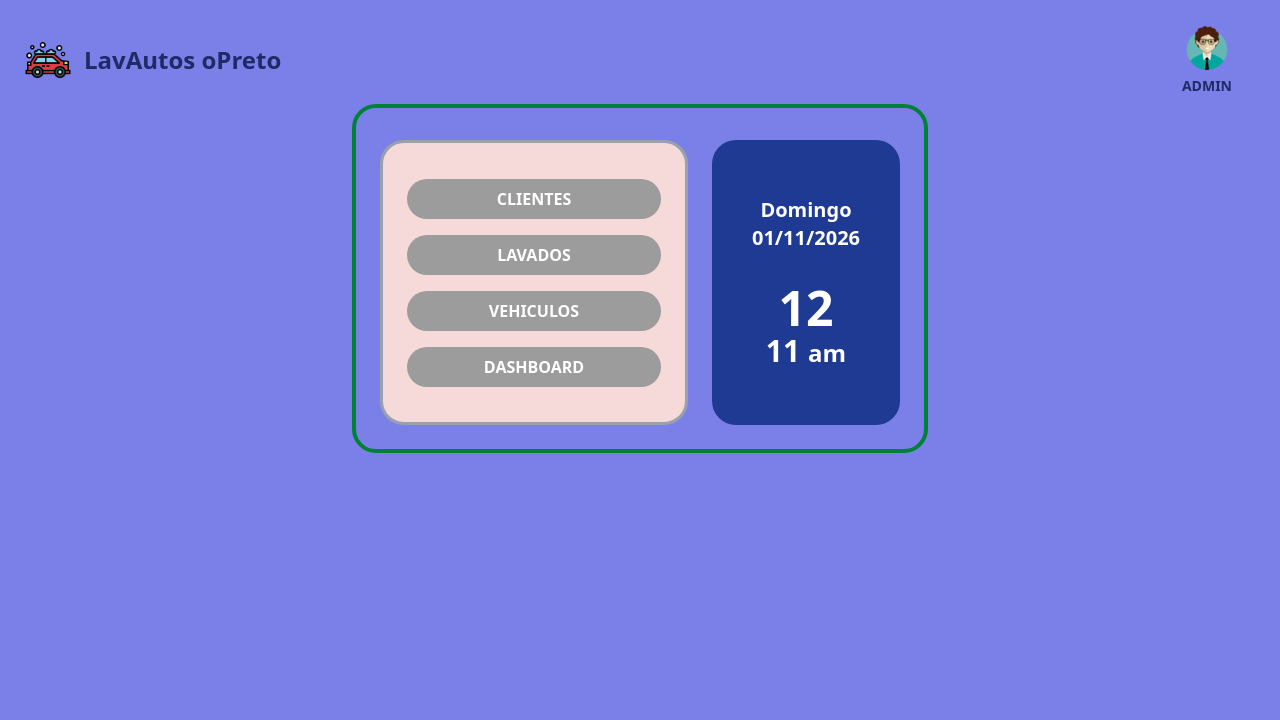
Scenario: HomePage › la X cierra el popup sin cerrar sesión
This screenshot has width=1280, height=720.
Expected: the button "CLIENTES" is shown, [407,179,661,219]
Click the button named "usuario": coordinates (1207, 60) [1182,24,1232,96]
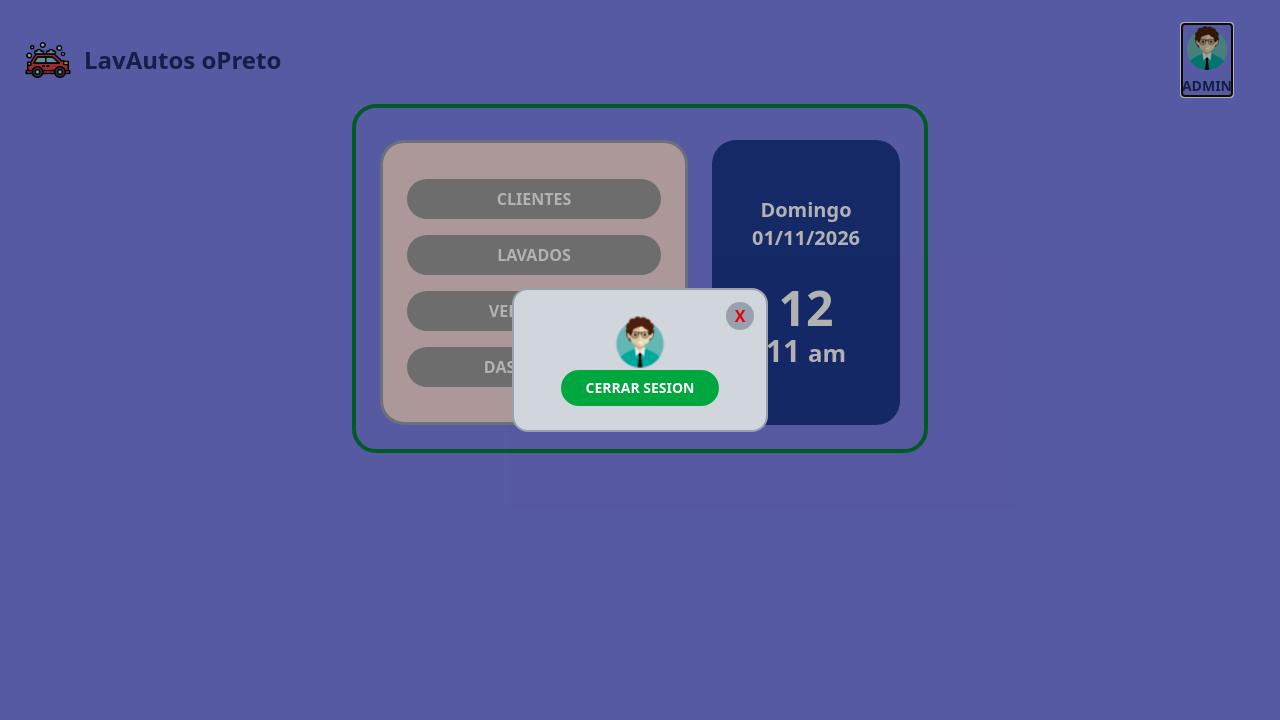
Click the button named "Cancelar": coordinates (740, 316) [726,302,754,330]
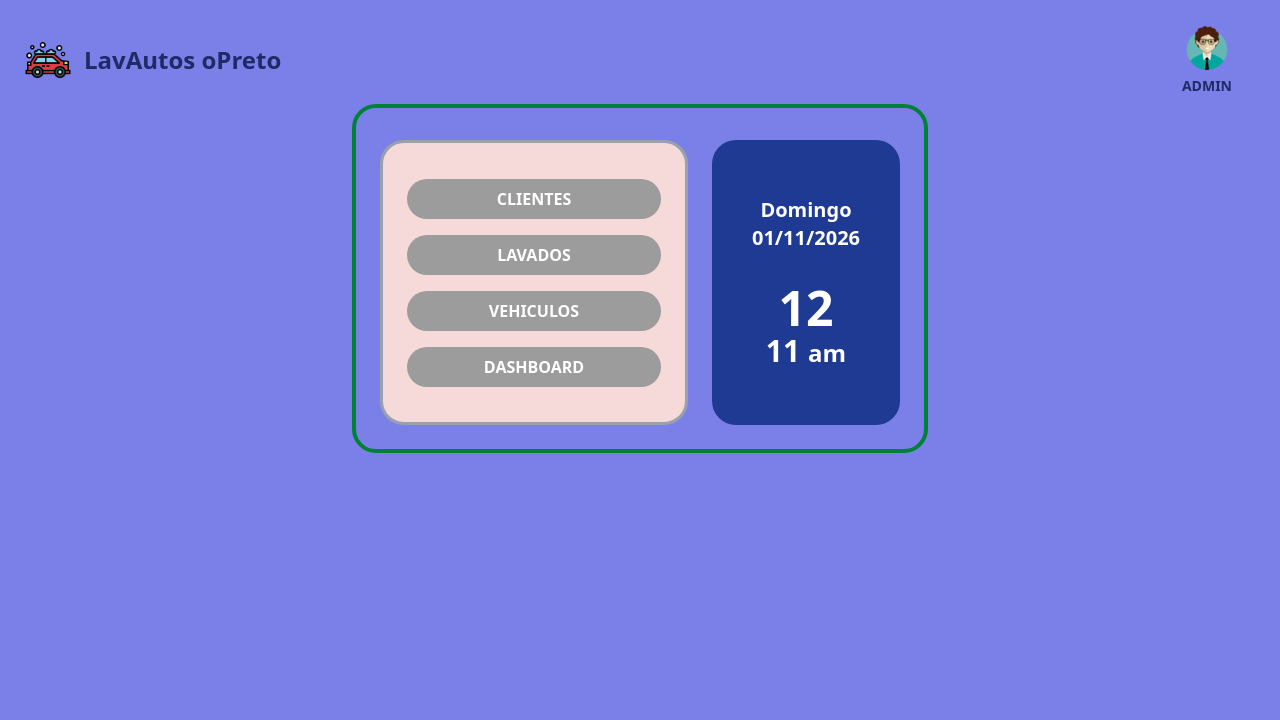
Expected: the button "CERRAR SESION" is gone
